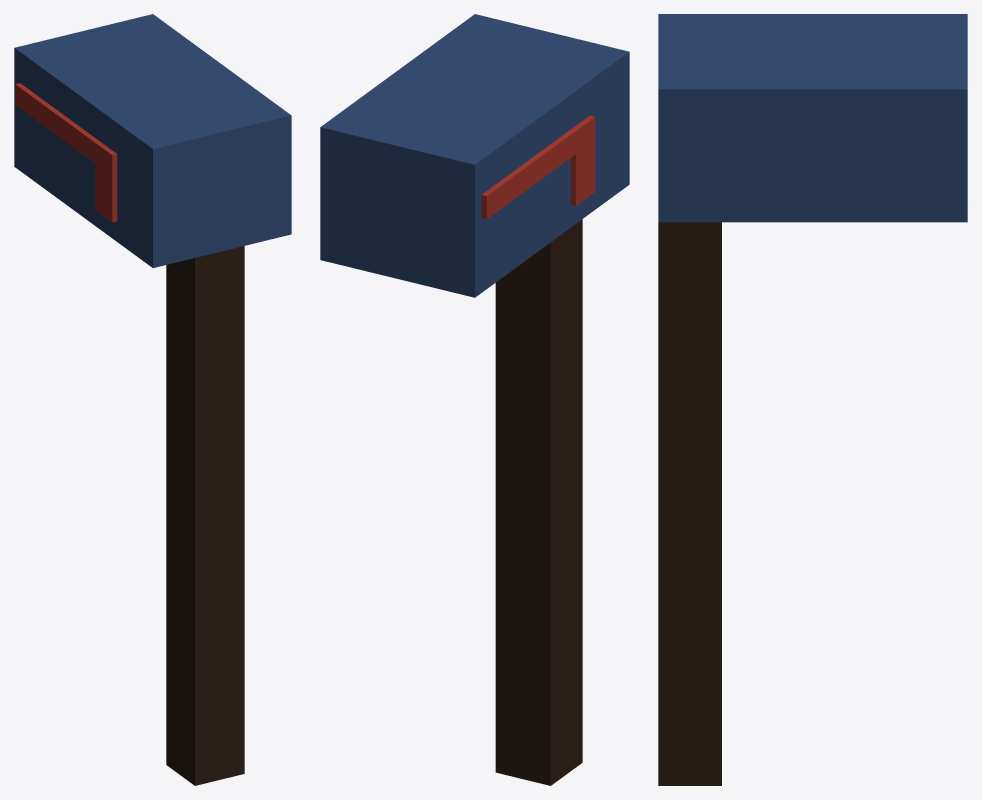
Rendered from mailbox.gltf.
3 renders of one model, left to right at view 1: azimuth 30°, elevation 25°; view 2: azimuth 150°, elevation 25°; view 3: azimuth 270°, elevation 25°, orthographic. The views are drawn at different scales.
Parts seen in each view (by area): view 1: cube (×2), mesh (×2); view 2: cube (×2), mesh (×2); view 3: cube (×2).
Boxes of the visible parts, <box> form: cube (×2): <box>14,14,291,785</box>; mesh (×2): <box>15,83,117,222</box>; cube (×2): <box>320,14,629,785</box>; mesh (×2): <box>481,115,595,219</box>; cube (×2): <box>658,14,967,785</box>.
Bounding box in the file's own units: 0.0906 × 0.3906 × 0.1516.
Materials: 2 (2 with a texture image).
